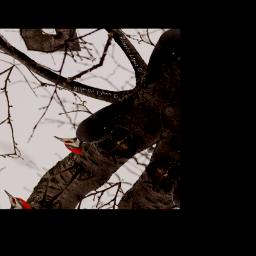Woodpecker: (50, 76, 145, 163)
